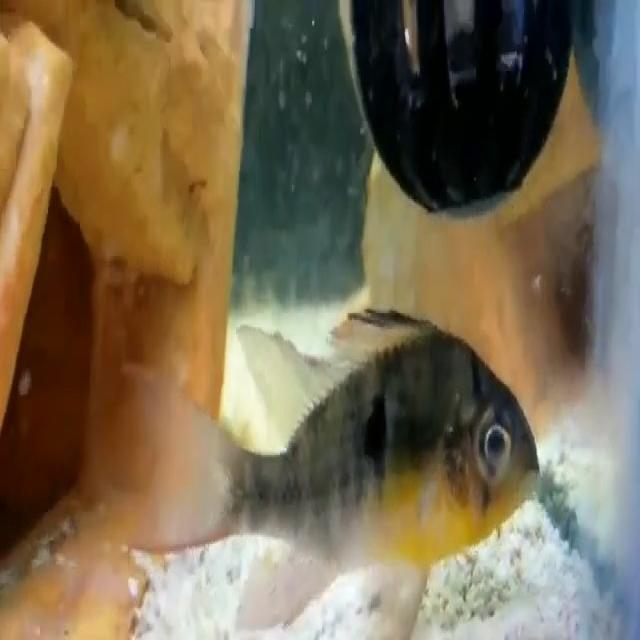fish: (111, 298, 544, 640)
